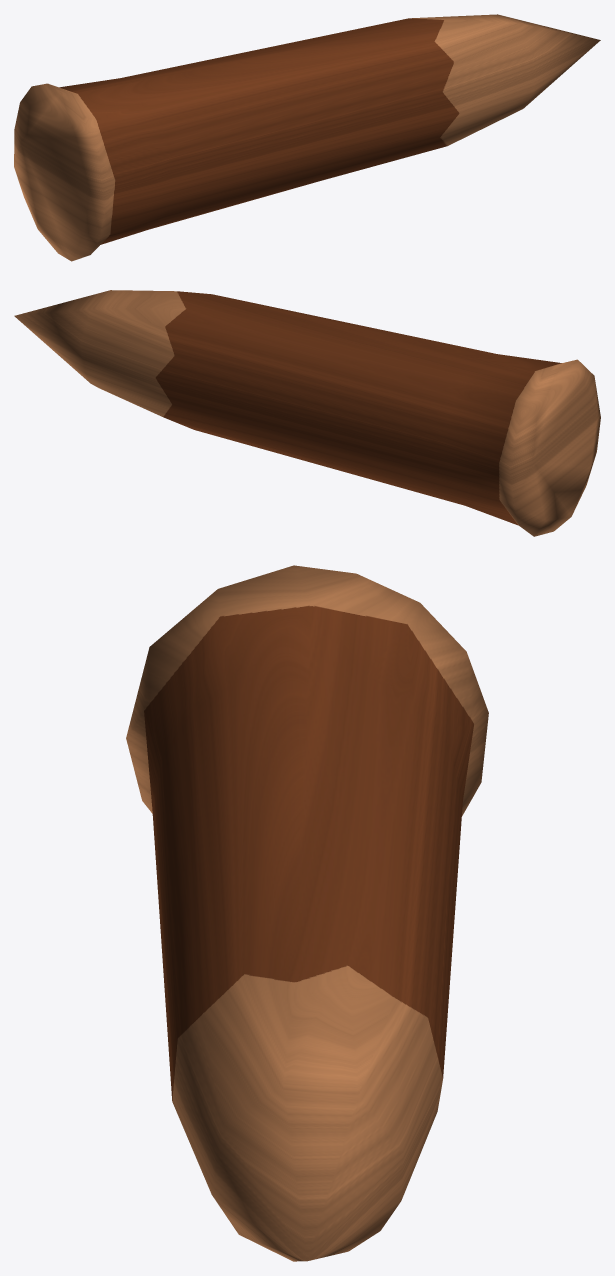
The model's file is Fliper.obj.
3 views of the same model, one above another, from view 1: azimuth 30°, elevation 25°; view 2: azimuth 150°, elevation 25°; view 3: azimuth 270°, elevation 25° (orthographic). The views are drawn at different scales.
Parts seen in each view (by area): view 1: Cylinder; view 2: Cylinder; view 3: Cylinder.
Boxes of the visible parts, bbox=[...] form: Cylinder: bbox=[14, 14, 600, 261]; Cylinder: bbox=[14, 290, 600, 536]; Cylinder: bbox=[126, 565, 488, 1261].
Size of the model in its own units: 3.53 by 1.01 by 1.01.
